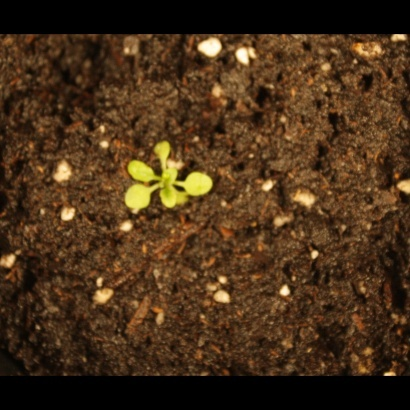leaf: (121, 182, 155, 216), (121, 154, 156, 183), (184, 169, 216, 199), (157, 187, 180, 212), (154, 139, 177, 162), (157, 163, 180, 186)
